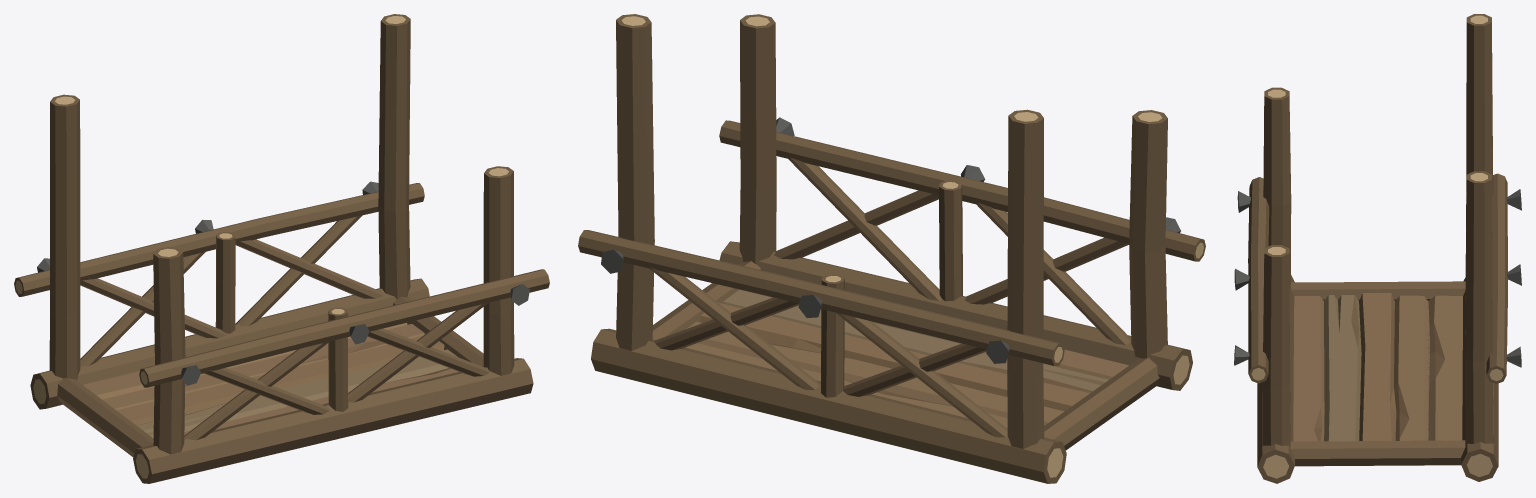
The model's file is rpgpp_ag_gate_balcony_02a.fbx.
The picture shows the model from 3 angles, left to right: view 1: azimuth 30°, elevation 25°; view 2: azimuth 150°, elevation 25°; view 3: azimuth 270°, elevation 25°; orthographic projection. The views are drawn at different scales.
Parts seen in each view (by area): view 1: rpgpp_ag_gate_balcony_02a; view 2: rpgpp_ag_gate_balcony_02a; view 3: rpgpp_ag_gate_balcony_02a.
Part boxes in pixels (bbox=[...]): rpgpp_ag_gate_balcony_02a: bbox=[14, 14, 549, 483]; rpgpp_ag_gate_balcony_02a: bbox=[578, 14, 1205, 483]; rpgpp_ag_gate_balcony_02a: bbox=[1234, 14, 1521, 483].
Size of the model in its own units: 4.83 by 3.46 by 3.06.
